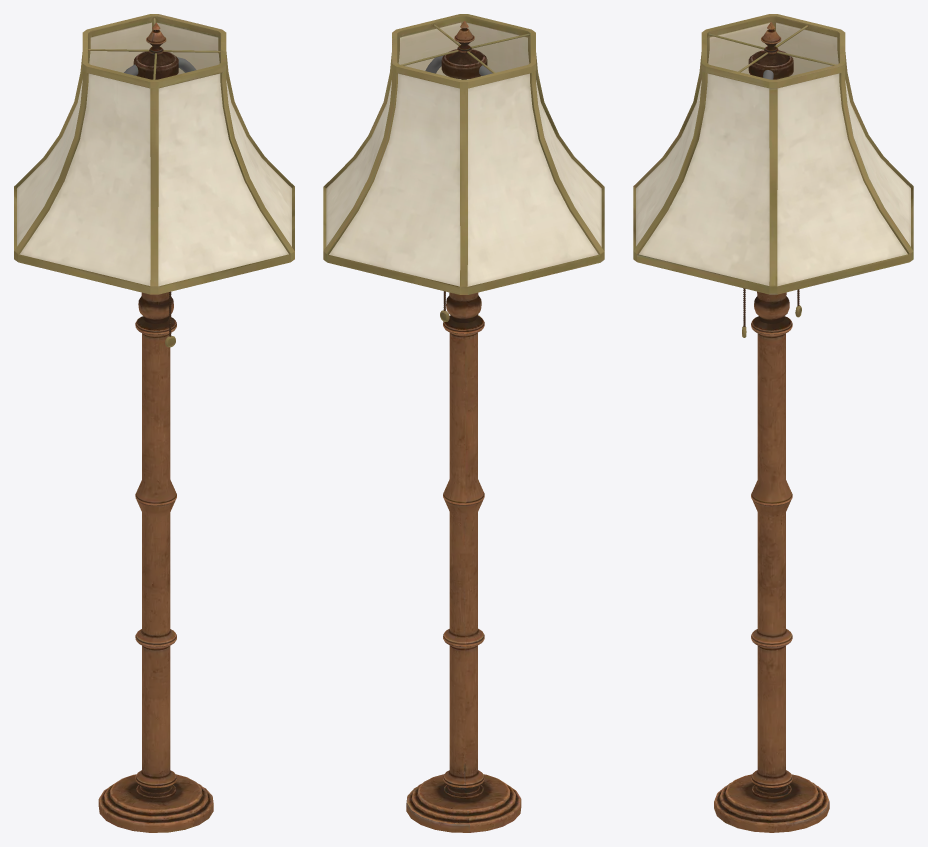
Rendered from antique_lamp.glb.
3 renders of one model, left to right at view 1: azimuth 30°, elevation 25°; view 2: azimuth 150°, elevation 25°; view 3: azimuth 270°, elevation 25°, orthographic.
Visible parts, largest first — view 1: defaultMaterial; view 2: defaultMaterial; view 3: defaultMaterial.
Part boxes in pixels (x1,y1,x2,y2): defaultMaterial: (14,14,294,832); defaultMaterial: (323,14,604,832); defaultMaterial: (633,14,913,832).
Bounding box in the file's own units: 55.08 × 149 × 48.35.
Materials: 1 (1 with a texture image).
